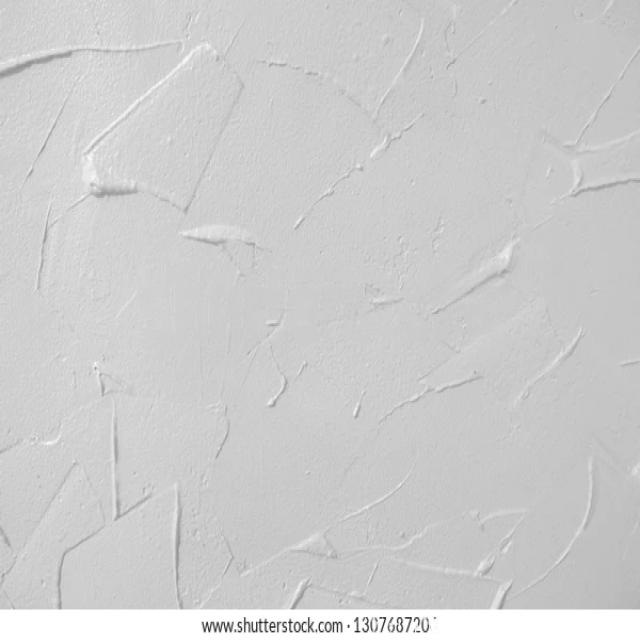trowels marks: (0, 0, 640, 607)
